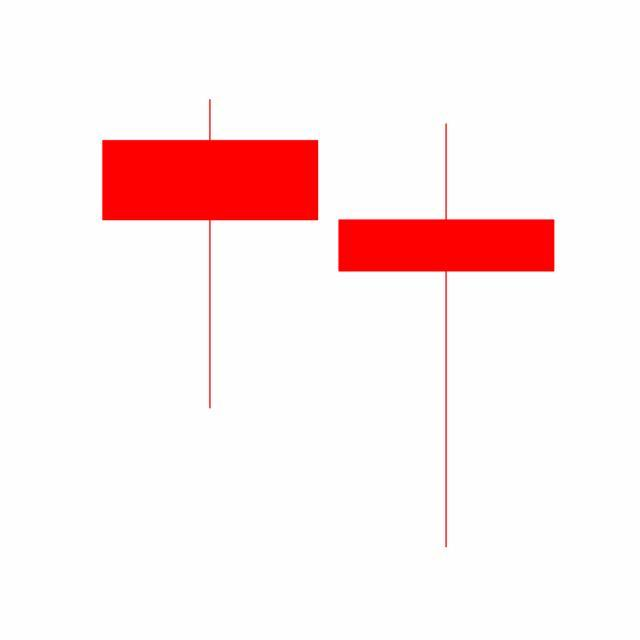Spinning Top: (328, 120, 566, 554)
